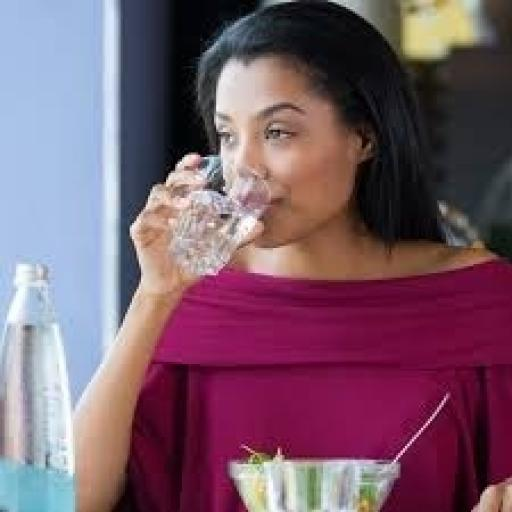drinking: (164, 152, 271, 278)
